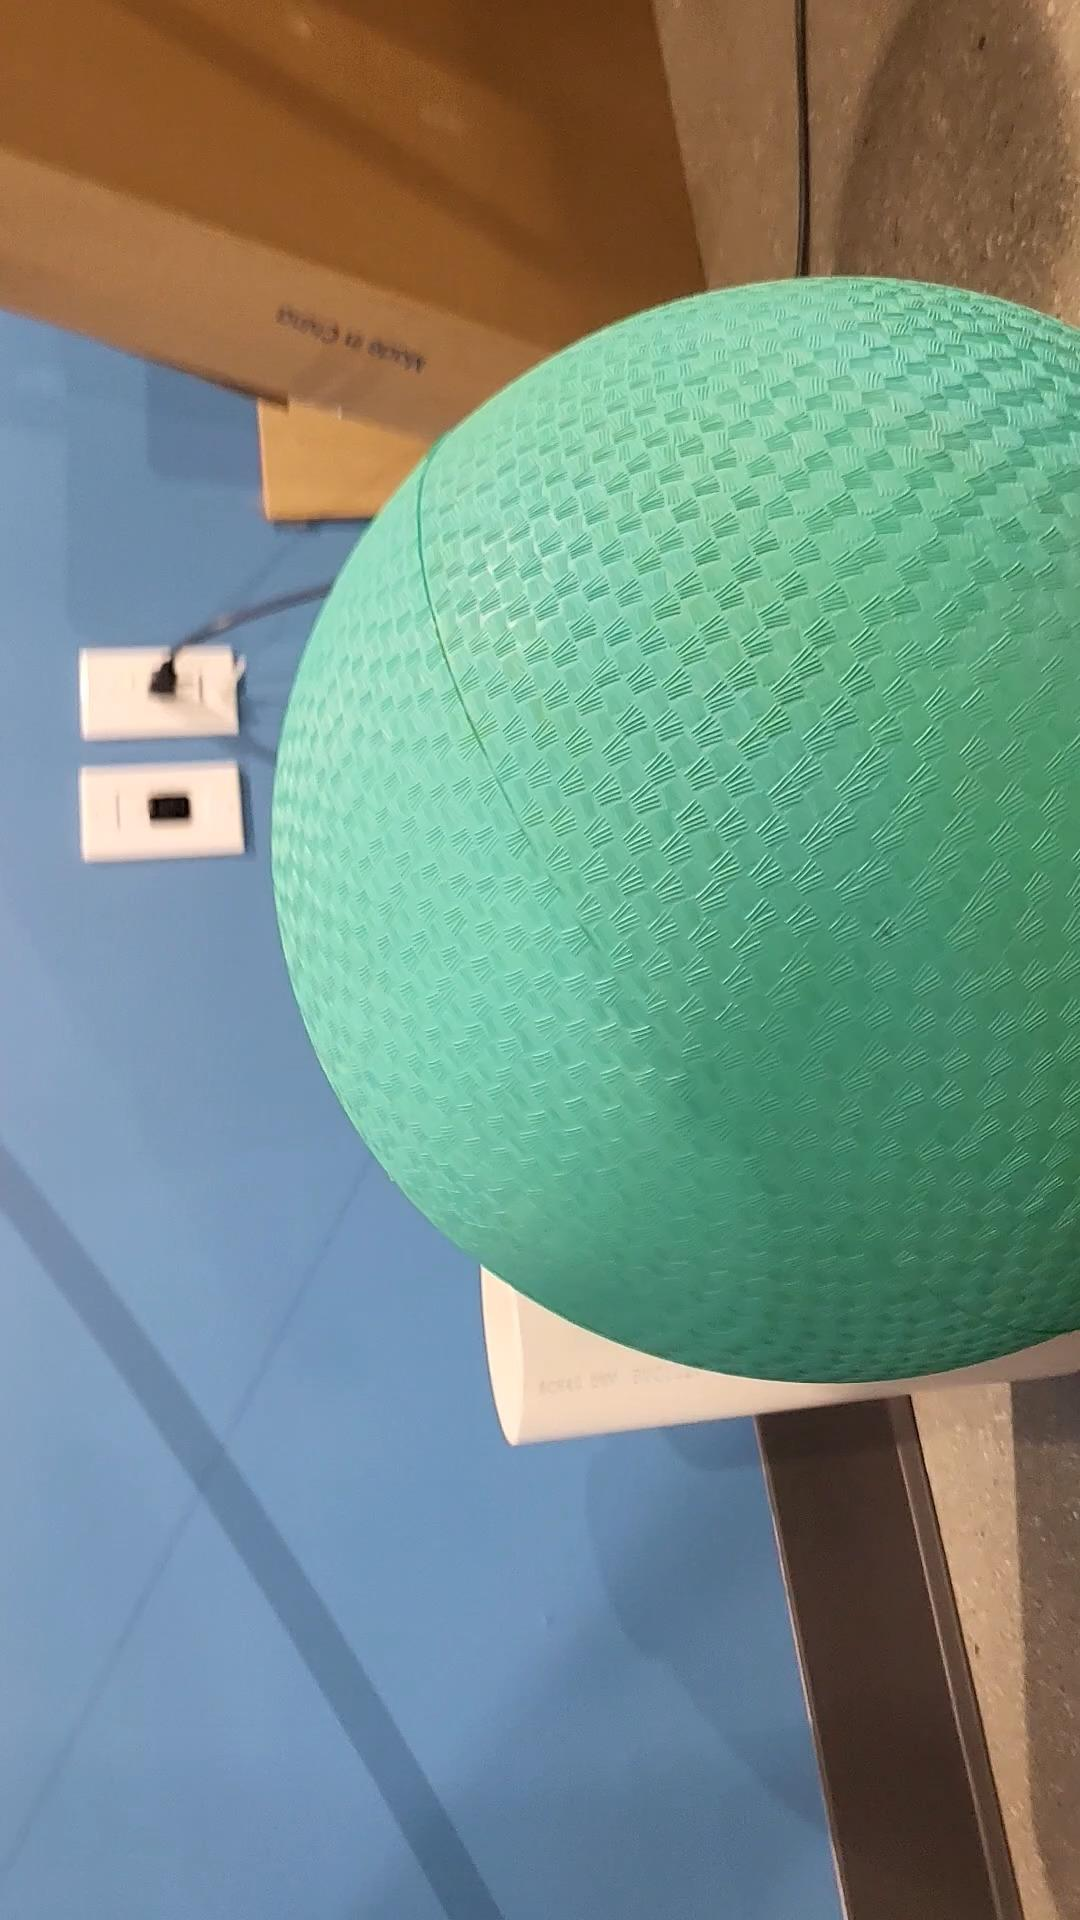algae: (273, 280, 1080, 1382)
coral: (480, 1245, 1080, 1451)
